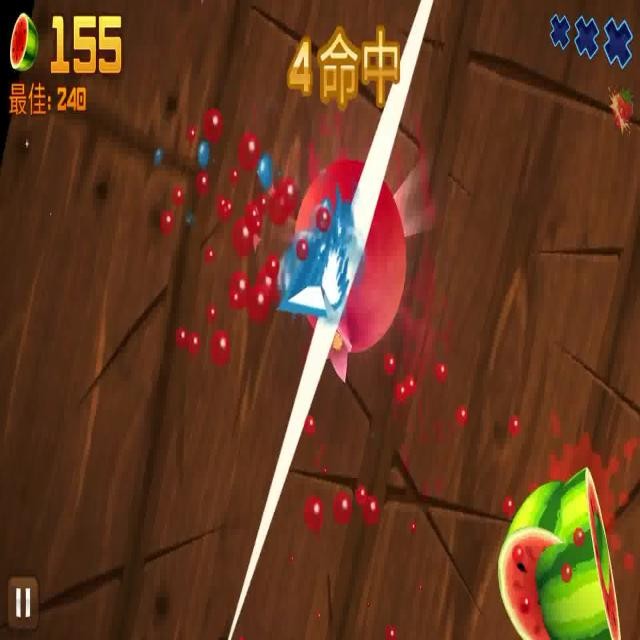fruit: (279, 156, 409, 368), (536, 464, 622, 640), (502, 473, 567, 640)
